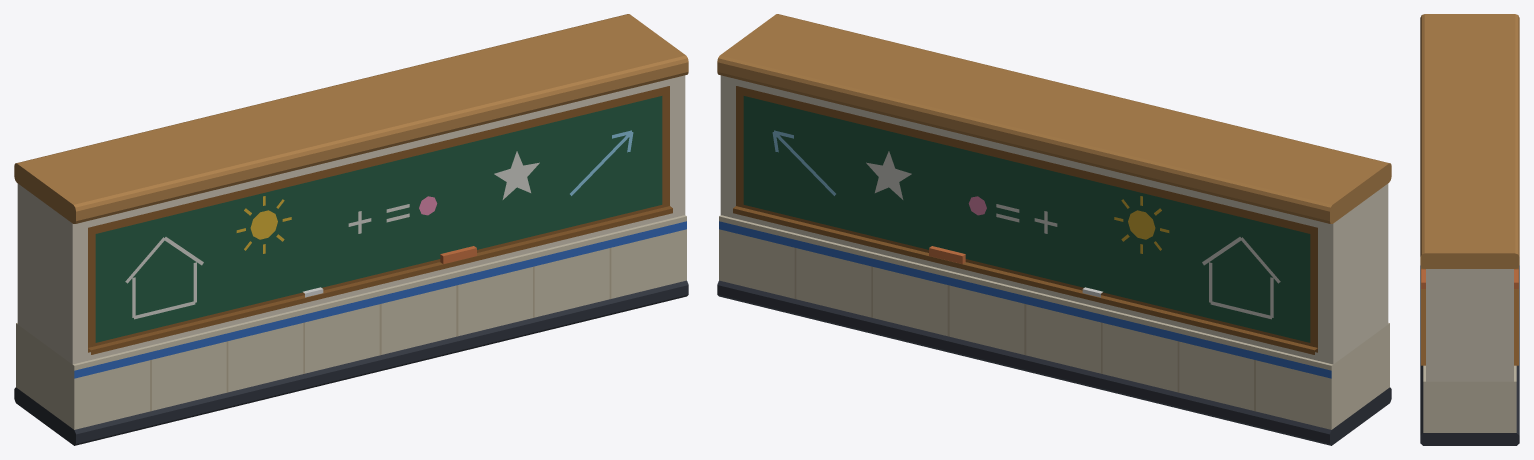
File: school-border.glb
3 views of the same model, side by side, from view 1: azimuth 30°, elevation 25°; view 2: azimuth 150°, elevation 25°; view 3: azimuth 270°, elevation 25° (orthographic). The views are drawn at different scales.
Parts seen in each view (by area): view 1: school-border; view 2: school-border; view 3: school-border.
Boxes of the visible parts, x1=… form: school-border: x1=14, y1=14, x2=688, y2=445; school-border: x1=717, y1=14, x2=1391, y2=445; school-border: x1=1420, y1=14, x2=1519, y2=445.
Bounding box in the file's own units: 4 × 1.5 × 0.7.
